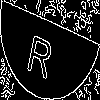R: (25, 25, 56, 80)
